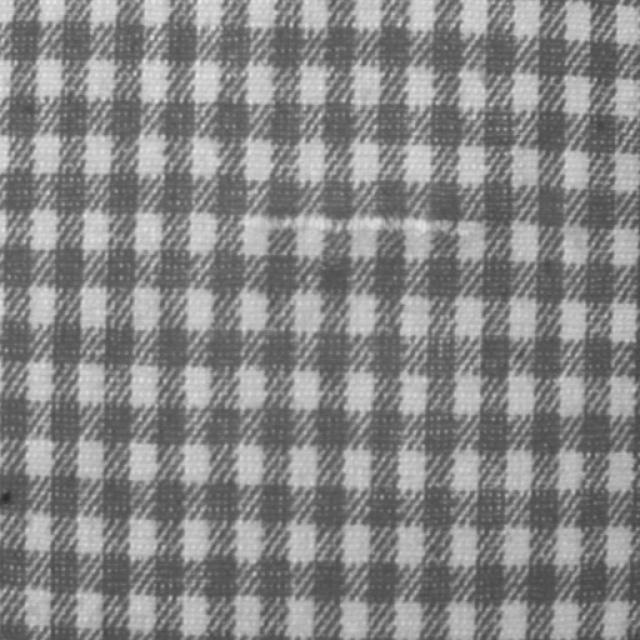Thread-Defect: (244, 212, 484, 239)
